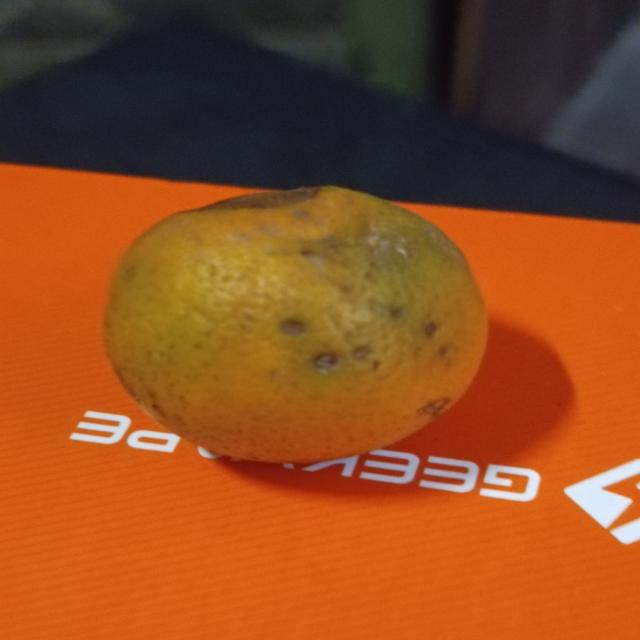black spot: (100, 185, 487, 461)
